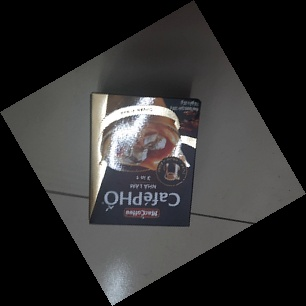CF pho: (87, 90, 205, 226)
